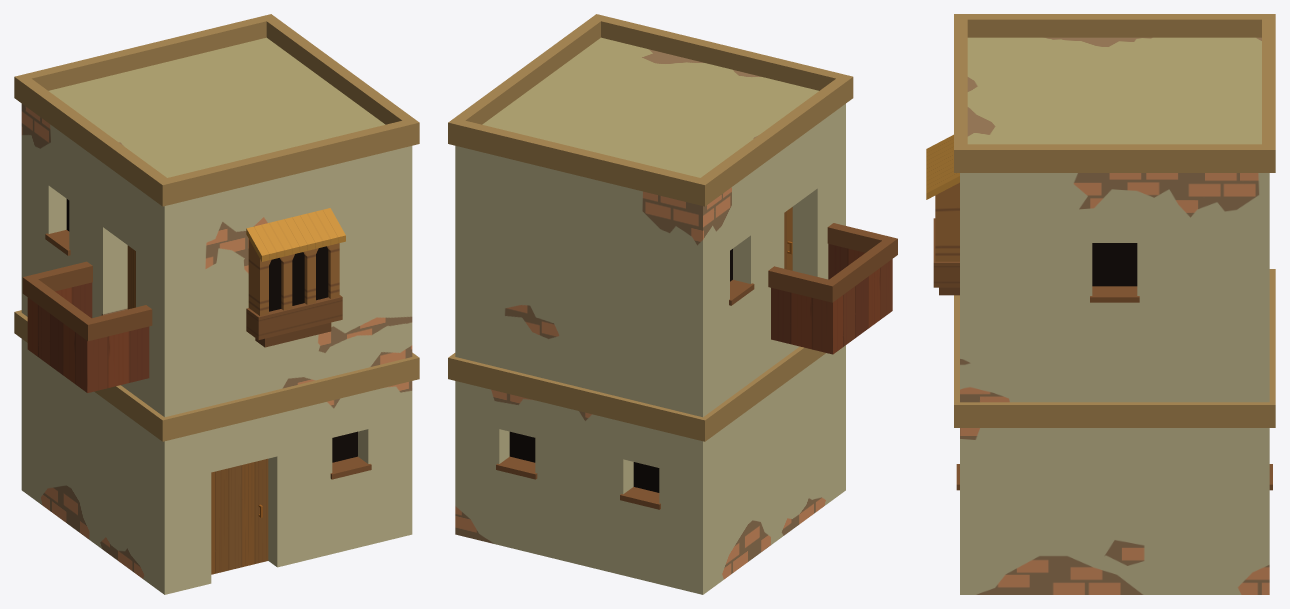
Rendered from Desert Building 04.fbx.
The picture shows the model from 3 angles, left to right: view 1: azimuth 30°, elevation 25°; view 2: azimuth 150°, elevation 25°; view 3: azimuth 270°, elevation 25°; orthographic projection. The views are drawn at different scales.
Parts seen in each view (by area): view 1: Desert_Building_04, Door; view 2: Desert_Building_04; view 3: Desert_Building_04.
Part boxes in pixels (x1=…): Desert_Building_04: x1=14, y1=14, x2=419, y2=594; Door: x1=211, y1=458, x2=268, y2=574; Desert_Building_04: x1=448, y1=14, x2=897, y2=594; Desert_Building_04: x1=926, y1=14, x2=1275, y2=594.
Size of the model in its own units: 639 by 797 by 563.
